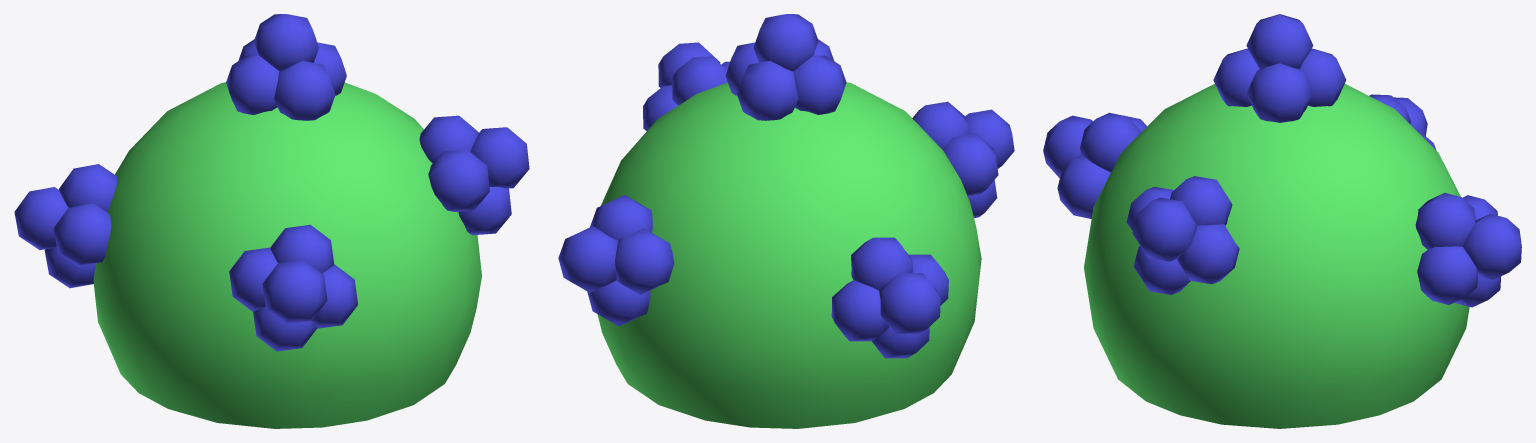
The model's file is BerryBush.fbx.
The picture shows the model from 3 angles, left to right: view 1: azimuth 30°, elevation 25°; view 2: azimuth 150°, elevation 25°; view 3: azimuth 270°, elevation 25°; orthographic projection.
Visible parts, largest first — view 1: BerryBush, Berry-01_04, Berry-01_01, Berry-01_03, Berry-01_02; view 2: BerryBush, Berry-01_02, Berry-01_05, Berry-01_01, Berry-01_04, Berry-01_03; view 3: BerryBush, Berry-01_03, Berry-01_05, Berry-01_01, Berry-01_04, Berry-01_02.
Part boxes in pixels (bbox=[...]): BerryBush: bbox=[93, 82, 481, 428]; Berry-01_04: bbox=[229, 224, 357, 351]; Berry-01_01: bbox=[226, 14, 346, 120]; Berry-01_03: bbox=[419, 115, 529, 235]; Berry-01_02: bbox=[14, 164, 117, 288]; BerryBush: bbox=[597, 82, 981, 428]; Berry-01_02: bbox=[831, 237, 948, 358]; Berry-01_05: bbox=[558, 195, 674, 326]; Berry-01_01: bbox=[725, 14, 846, 120]; Berry-01_04: bbox=[912, 101, 1014, 217]; Berry-01_03: bbox=[643, 42, 729, 130]; BerryBush: bbox=[1084, 84, 1469, 428]; Berry-01_03: bbox=[1126, 176, 1239, 294]; Berry-01_05: bbox=[1415, 193, 1521, 307]; Berry-01_01: bbox=[1213, 14, 1346, 122]; Berry-01_04: bbox=[1043, 112, 1146, 218]; Berry-01_02: bbox=[1369, 94, 1436, 150].
Size of the model in its own units: 0.5631 by 0.4731 by 0.6004.
